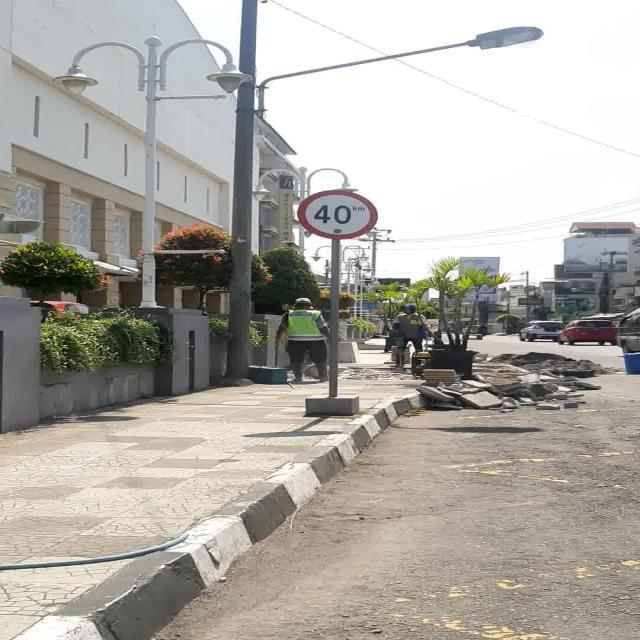Kecepatan Maks. 40 km: (297, 190, 378, 240)
